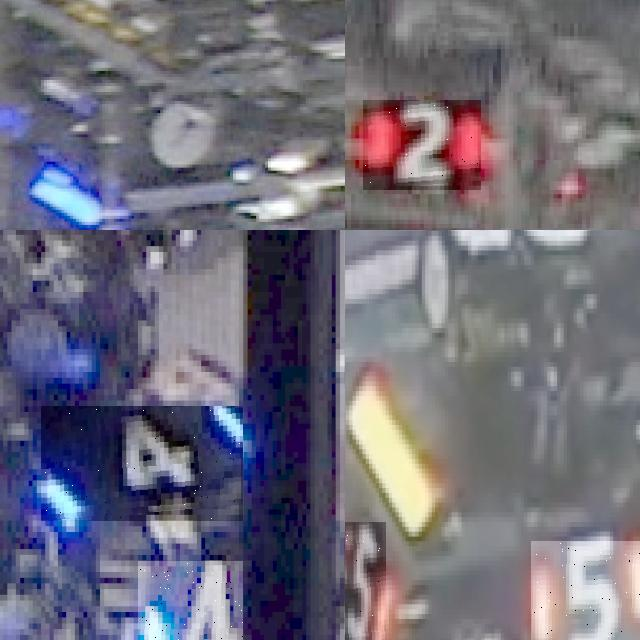B4: (41, 406, 243, 521), (137, 560, 243, 640)
R2: (363, 100, 481, 190)
R5: (530, 541, 640, 640), (345, 521, 385, 640)
